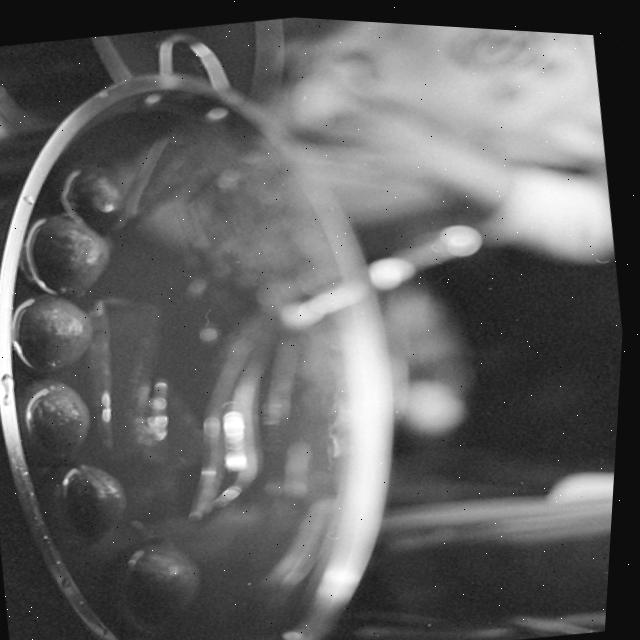蛋糕甜品: (0, 5, 496, 640)
